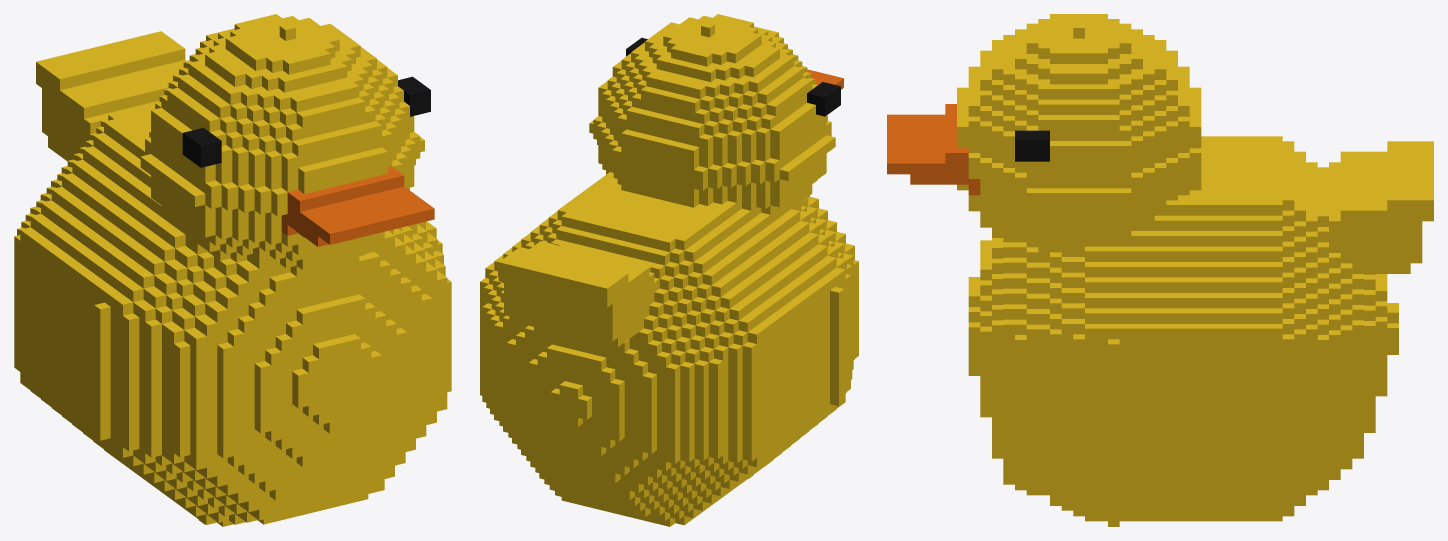
Rendered from bath_toy.glb.
3 views of the same model, side by side, from view 1: azimuth 30°, elevation 25°; view 2: azimuth 150°, elevation 25°; view 3: azimuth 270°, elevation 25° (orthographic). The views are drawn at different scales.
Parts seen in each view (by area): view 1: bath_toy:compound; view 2: bath_toy:compound; view 3: bath_toy:compound.
Boxes of the visible parts, left/top/right/bottom form: bath_toy:compound: left=14, top=14, right=451, bottom=526; bath_toy:compound: left=480, top=14, right=858, bottom=526; bath_toy:compound: left=887, top=14, right=1433, bottom=526.
Size of the model in its own units: 0.064 by 0.09 by 0.094.
